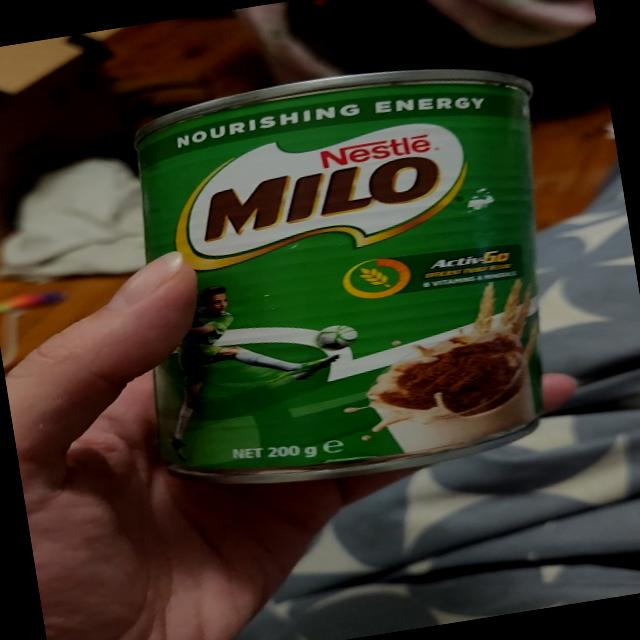nestle_milo_tin: (135, 69, 542, 483)
